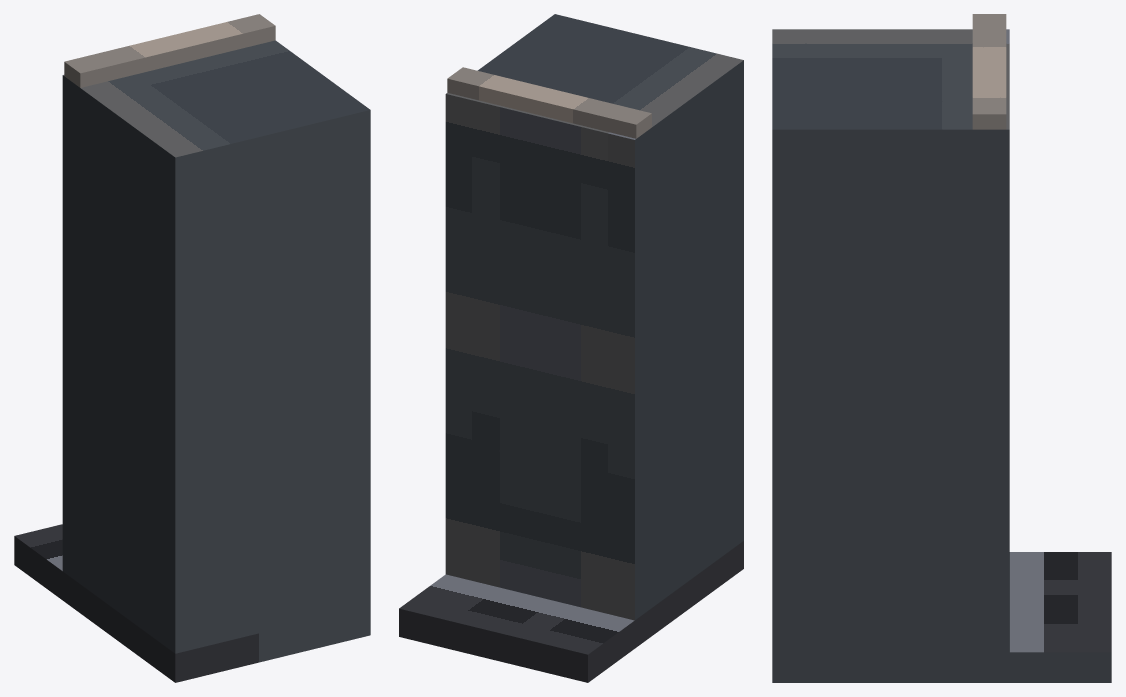
Rendered from SM_BuildingWallWindowless.gltf.
The picture shows the model from 3 angles, left to right: view 1: azimuth 30°, elevation 25°; view 2: azimuth 150°, elevation 25°; view 3: azimuth 270°, elevation 25°; orthographic projection. The views are drawn at different scales.
Visible parts, largest first — view 1: cube (×3); view 2: cube (×3); view 3: cube (×3).
Part boxes in pixels (x1,y1,x2,y2): cube (×3): (14,14,370,682); cube (×3): (399,14,743,682); cube (×3): (772,14,1111,682).
Bounding box in the file's own units: 0.4375 × 1.16 × 0.625.
Materials: 2 (2 with a texture image).
